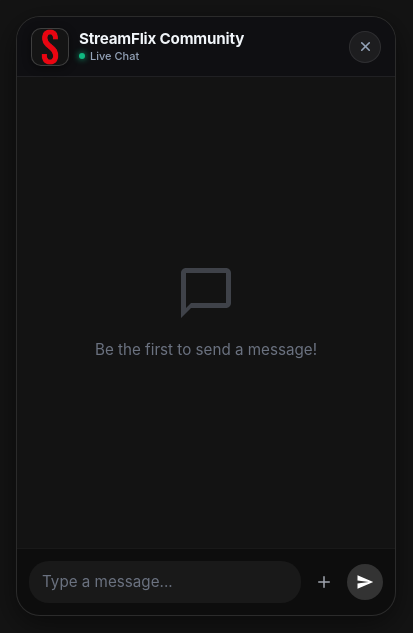
GlobalChat Reply-Gated Spoilers › inserts [spoiler][/spoiler] on selecting /spoiler command
This screenshot has width=413, height=633.
// Type /spoiler
Type "/sp" into the text box with class "gc-msg-input" at (165, 582), box [42,562,288,602]
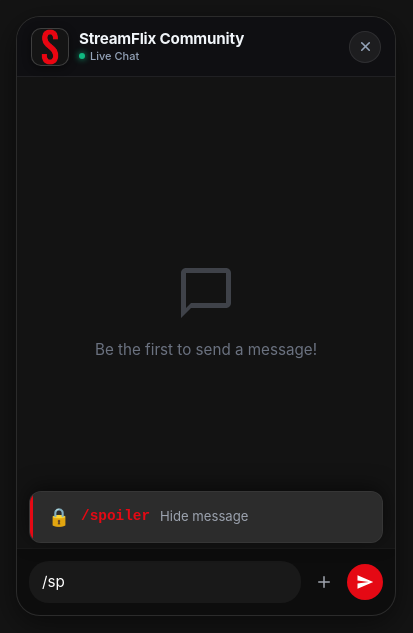
Result: the element with class "gc-command-menu" is shown
// Click /spoiler in menu
Click the element with class "gc-command-item" at (206, 517), box [30,492,382,542]
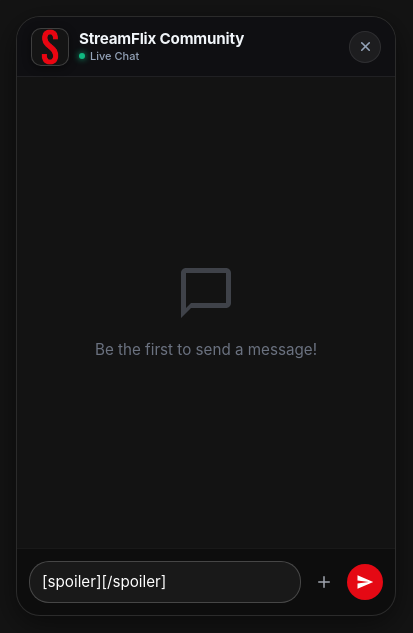
Result: the text box with class "gc-msg-input" holds "[spoiler][/spoiler]" at [42,562,288,602]
